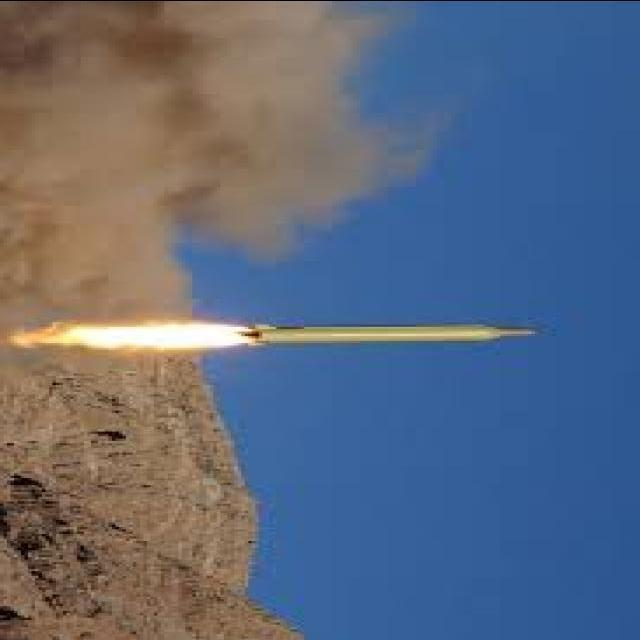missile: (246, 313, 534, 344)
